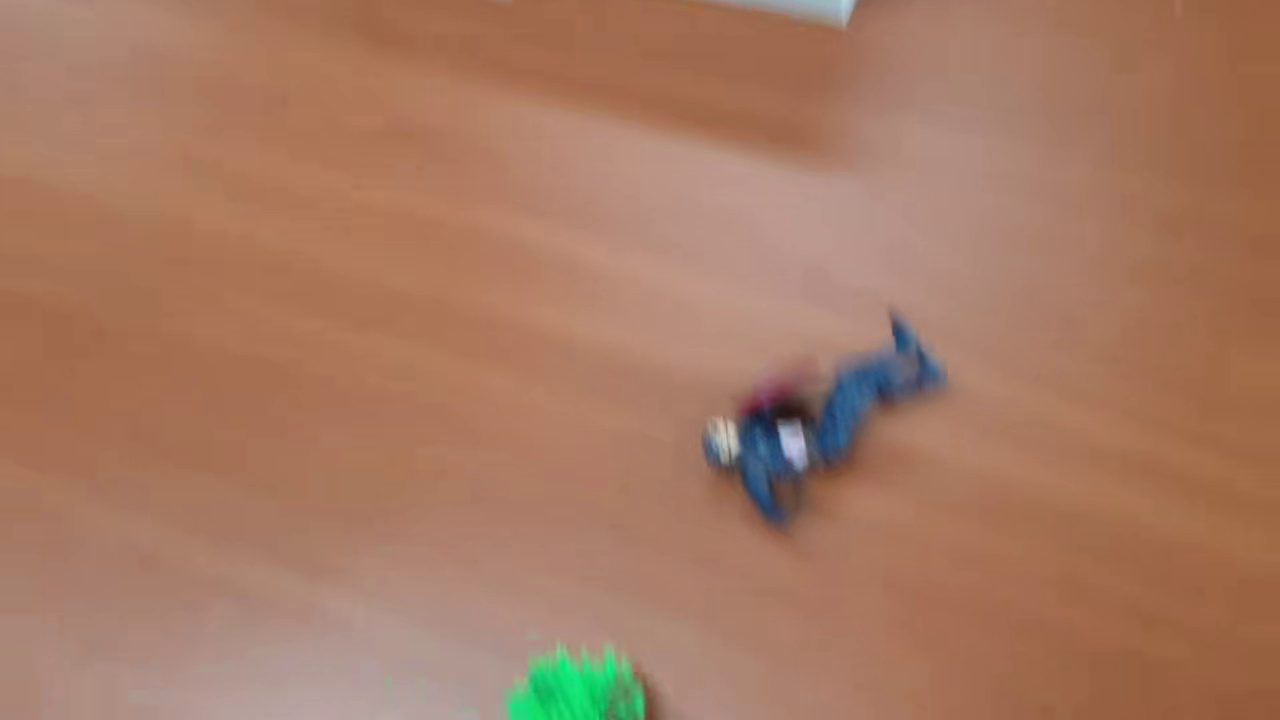people: (699, 305, 947, 533)
tree: (504, 640, 650, 720)
